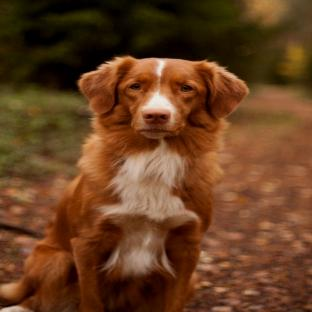Animal: (1, 57, 247, 312)
